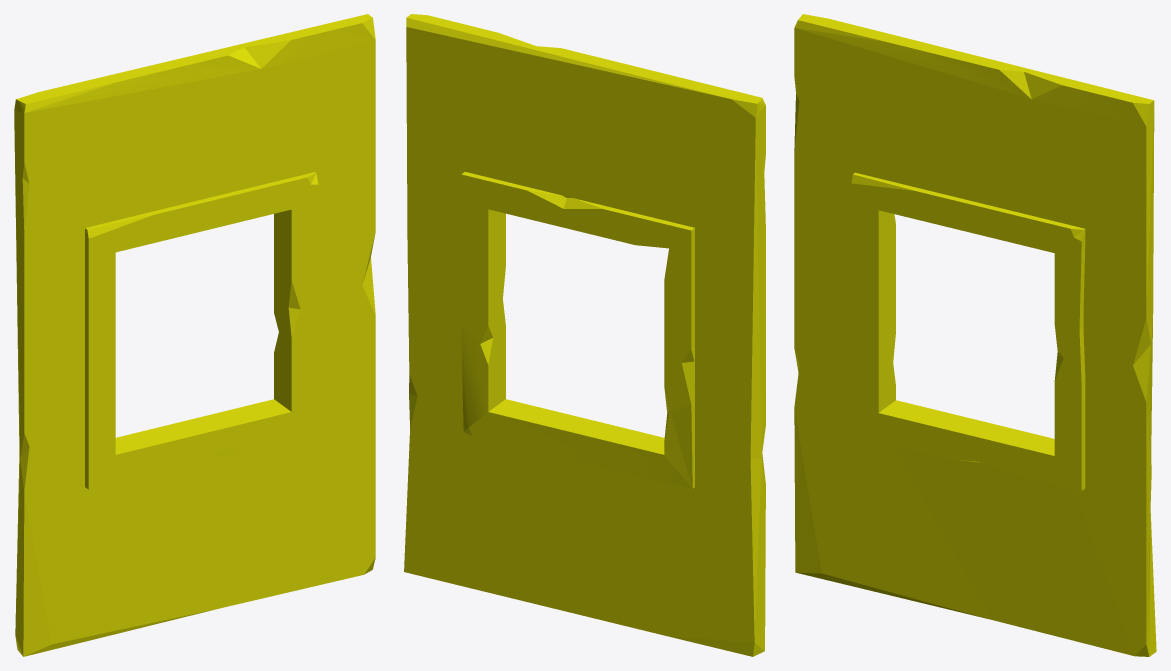
File: SM_PolygonPrototype_Buildings_WallWindow_2x3_01P.glb
The picture shows the model from 3 angles, left to right: view 1: azimuth 30°, elevation 25°; view 2: azimuth 150°, elevation 25°; view 3: azimuth 330°, elevation 25°; orthographic projection.
Parts seen in each view (by area): view 1: SM_PolygonPrototype_Buildings_WallWindow_2x3_01P; view 2: SM_PolygonPrototype_Buildings_WallWindow_2x3_01P; view 3: SM_PolygonPrototype_Buildings_WallWindow_2x3_01P.
Boxes of the visible parts, x1,y1,x2,y2 form: SM_PolygonPrototype_Buildings_WallWindow_2x3_01P: [14, 14, 375, 656]; SM_PolygonPrototype_Buildings_WallWindow_2x3_01P: [404, 14, 765, 656]; SM_PolygonPrototype_Buildings_WallWindow_2x3_01P: [794, 14, 1156, 656].
Size of the model in its own units: 2 by 3 by 0.1729.
1 material, 1 textured.
